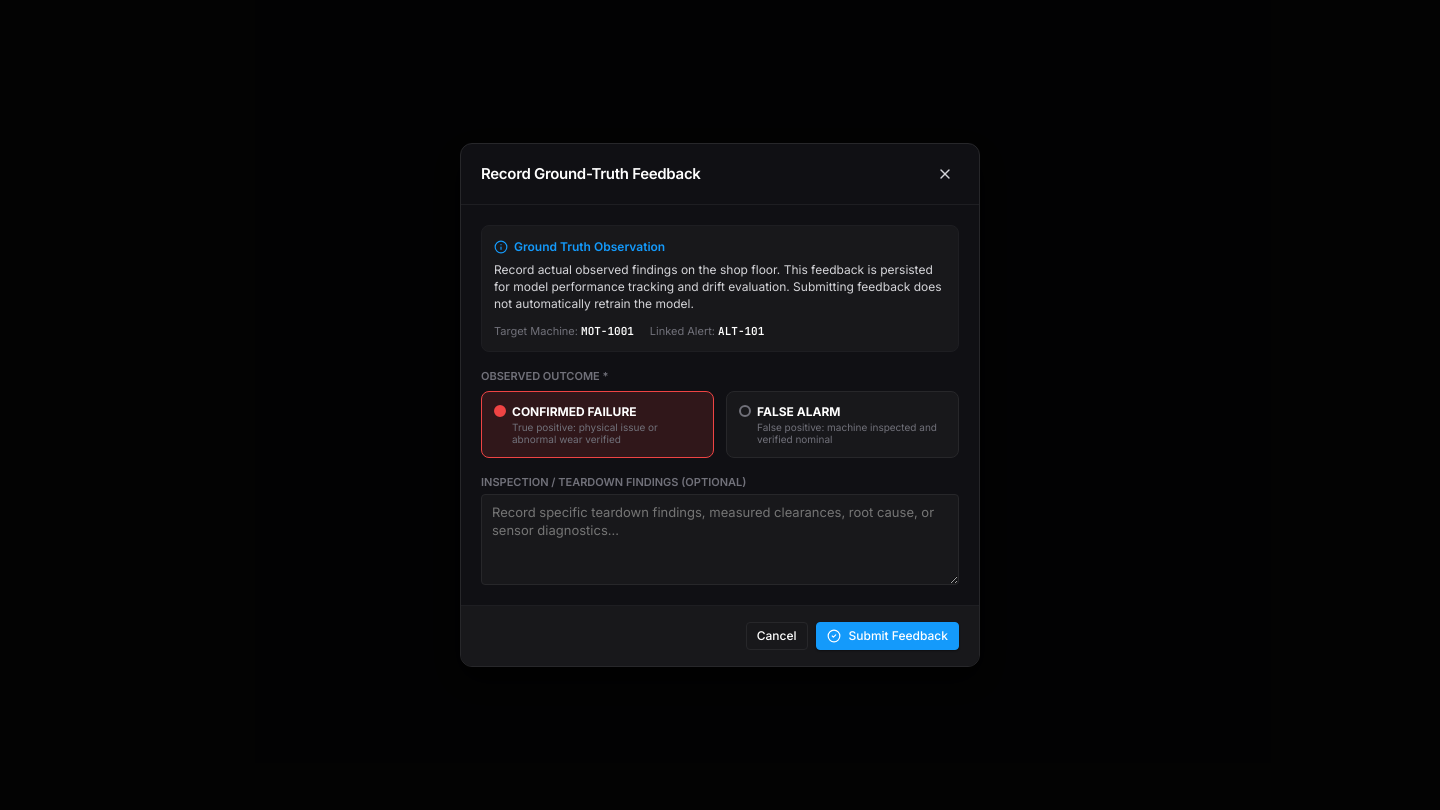
S22 — Operator Feedback Loop (T-056) › handles duplicate feedback 409 rejection gracefully
What coordinates should you click on to do the following:
click the button "Submit Feedback"
I would click on:
 (887, 636)
Its box is [816, 622, 959, 650].
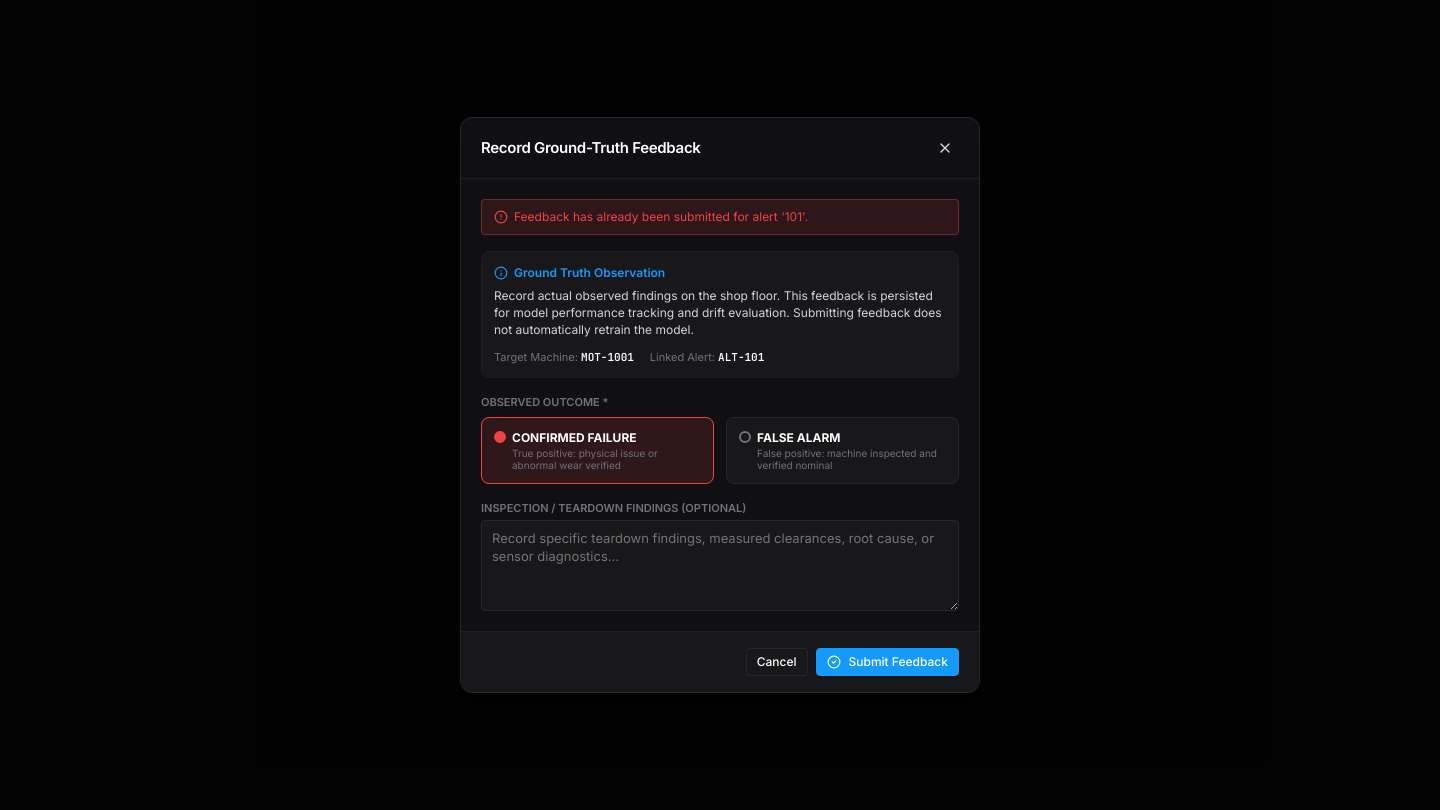
Expected: the text "Feedback has already been submitted for alert '101'." is shown, [514, 208, 808, 226]
